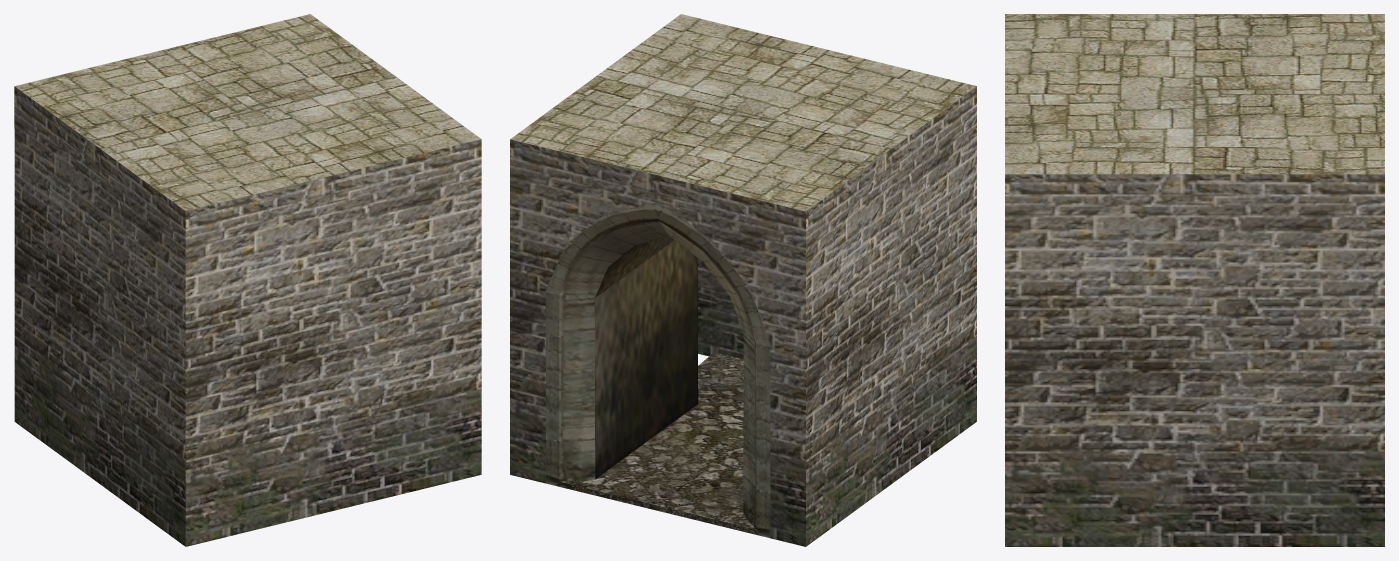
The picture shows the model from 3 angles, left to right: view 1: azimuth 30°, elevation 25°; view 2: azimuth 150°, elevation 25°; view 3: azimuth 270°, elevation 25°; orthographic projection. The views are drawn at different scales.
Parts seen in each view (by area): view 1: Object07.001; view 2: Object07.001; view 3: Object07.001.
Part boxes in pixels (x1,y1,x2,y2): Object07.001: [14, 14, 481, 546]; Object07.001: [510, 14, 976, 546]; Object07.001: [1005, 14, 1384, 546].
Bounding box in the file's own units: 615 × 666 × 615.
Materials: 4 (4 with a texture image).
